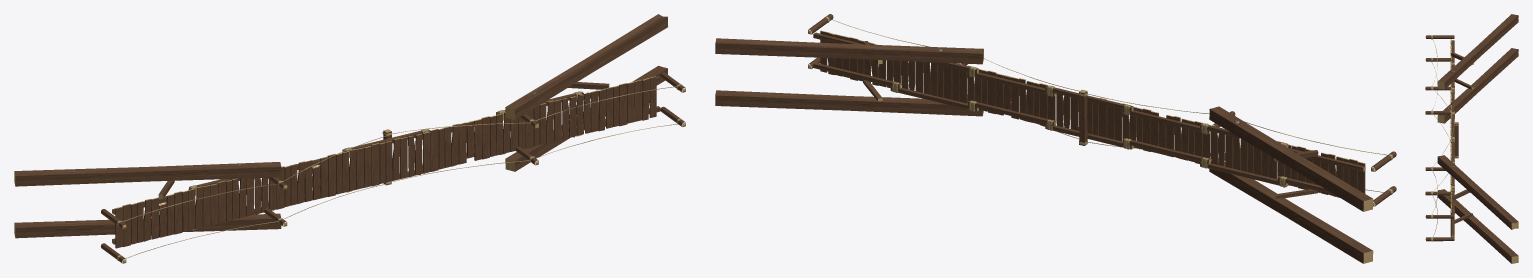
File: buildings-rope-bridge-228.glb
3 views of the same model, side by side, from view 1: azimuth 30°, elevation 25°; view 2: azimuth 150°, elevation 25°; view 3: azimuth 270°, elevation 25° (orthographic). The views are drawn at different scales.
Parts seen in each view (by area): view 1: Object.2, Object.4, Object.1; view 2: Object.2, Object.4, Object.1; view 3: Object.2, Object.1, Object.4.
Boxes of the visible parts, x1,y1,x2,y2 form: Object.2: (14, 14, 685, 263); Object.4: (116, 84, 682, 260); Object.1: (14, 76, 685, 263); Object.2: (715, 14, 1396, 263); Object.4: (824, 16, 1393, 194); Object.1: (808, 30, 1374, 263); Object.2: (1425, 14, 1518, 263); Object.1: (1425, 36, 1518, 263); Object.4: (1430, 35, 1458, 241).
Bounding box in the file's own units: 5948945 × 560993 × 1123419.
Materials: 4 (4 with a texture image).
